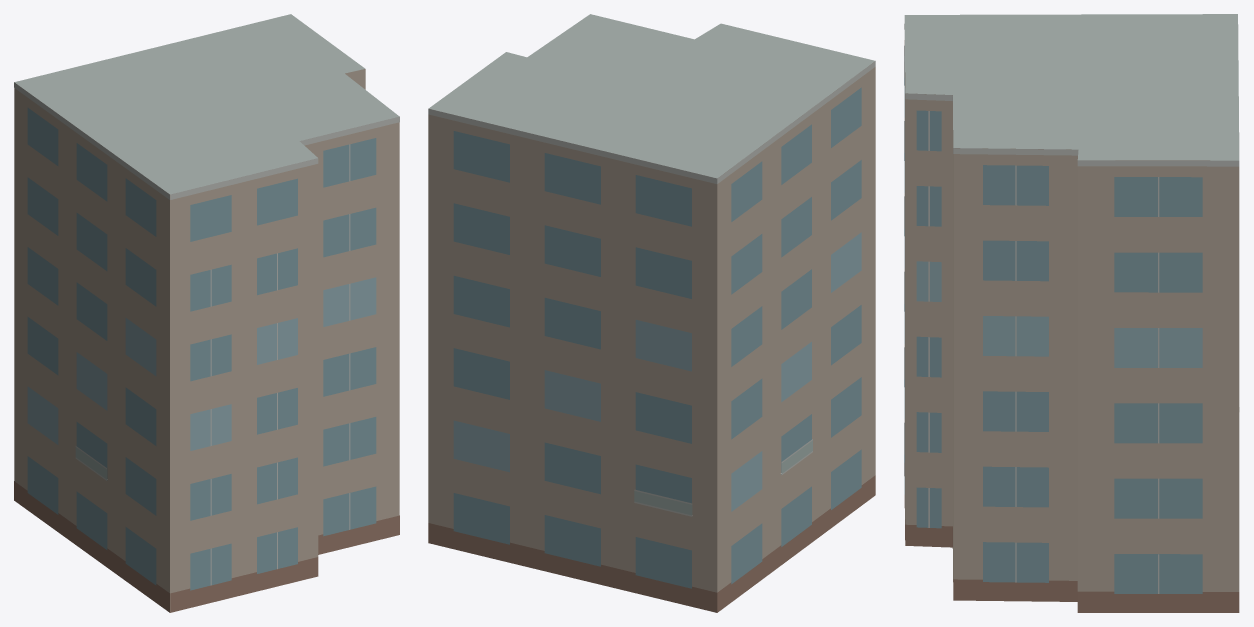
The model's file is survey-upis-32588473.glb.
3 views of the same model, side by side, from view 1: azimuth 30°, elevation 25°; view 2: azimuth 150°, elevation 25°; view 3: azimuth 270°, elevation 25° (orthographic). The views are drawn at different scales.
Parts seen in each view (by area): view 1: survey-upis-32588473.tmp; view 2: survey-upis-32588473.tmp; view 3: survey-upis-32588473.tmp.
Part boxes in pixels (left/top/right/bottom): survey-upis-32588473.tmp: left=14, top=14, right=399, bottom=612; survey-upis-32588473.tmp: left=428, top=14, right=875, bottom=612; survey-upis-32588473.tmp: left=904, top=14, right=1239, bottom=612.
Size of the model in its own units: 12.72 by 18.3 by 12.29.
